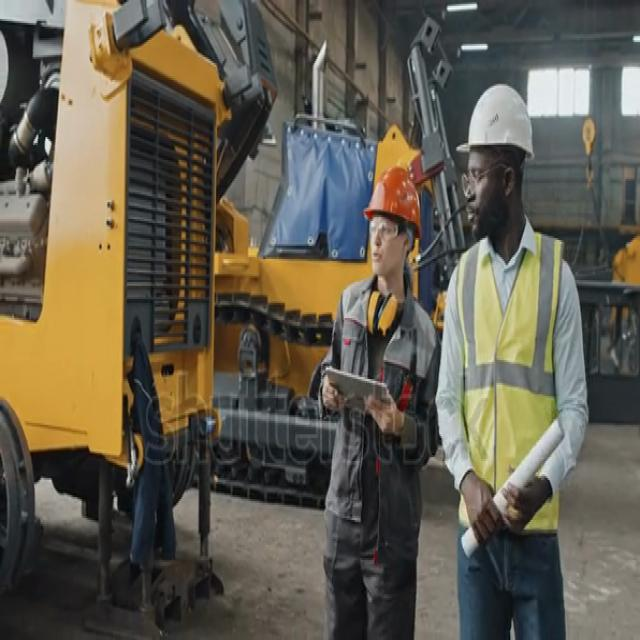goggles: (458, 162, 492, 192), (370, 215, 404, 242)
